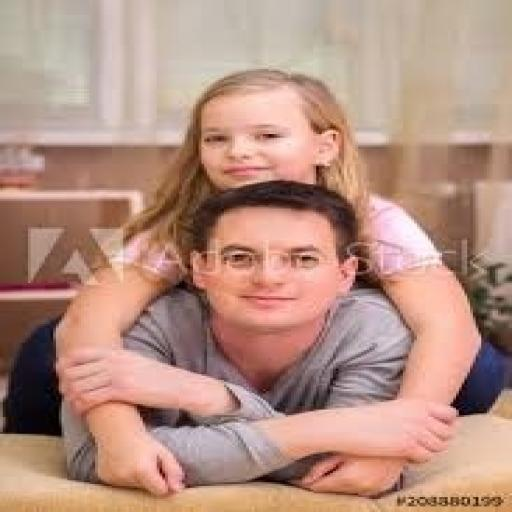hugging: (45, 67, 492, 495)
